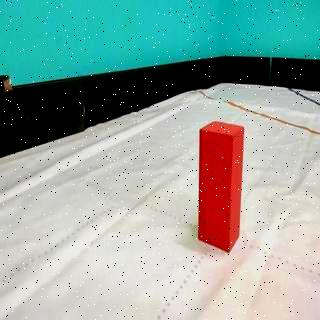redbox: (198, 120, 244, 253)
